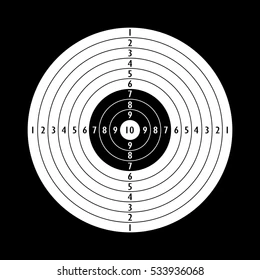target: (22, 15, 244, 239)
